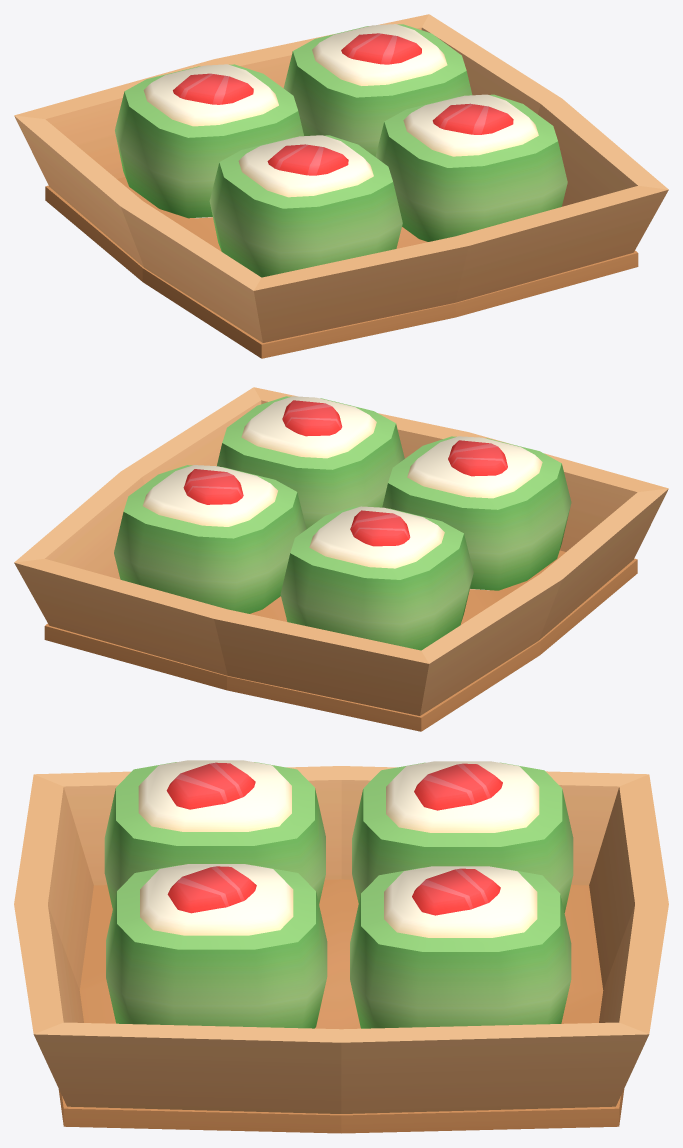
File: Set_1_035.gltf
3 views of the same model, one above another, from view 1: azimuth 30°, elevation 25°; view 2: azimuth 150°, elevation 25°; view 3: azimuth 270°, elevation 25° (orthographic). The views are drawn at different scales.
Parts seen in each view (by area): view 1: Box_Cardboard_Small_002.001, Sushi_Small_Cucumber_005.001, Sushi_Small_Cucumber_005.004, Sushi_Small_Cucumber_005.002, Sushi_Small_Cucumber_005.003; view 2: Box_Cardboard_Small_002.001, Sushi_Small_Cucumber_005.002, Sushi_Small_Cucumber_005.003, Sushi_Small_Cucumber_005.001, Sushi_Small_Cucumber_005.004; view 3: Box_Cardboard_Small_002.001, Sushi_Small_Cucumber_005.004, Sushi_Small_Cucumber_005.003, Sushi_Small_Cucumber_005.002, Sushi_Small_Cucumber_005.001.
Part boxes in pixels (box(x1,y1,x2,y2)): Box_Cardboard_Small_002.001: box(14, 14, 668, 358); Sushi_Small_Cucumber_005.001: box(209, 135, 402, 277); Sushi_Small_Cucumber_005.004: box(375, 94, 567, 241); Sushi_Small_Cucumber_005.002: box(115, 64, 303, 218); Sushi_Small_Cucumber_005.003: box(283, 24, 472, 156); Box_Cardboard_Small_002.001: box(14, 387, 668, 731); Sushi_Small_Cucumber_005.002: box(280, 506, 473, 650); Sushi_Small_Cucumber_005.003: box(114, 465, 306, 613); Sushi_Small_Cucumber_005.001: box(382, 436, 571, 590); Sushi_Small_Cucumber_005.004: box(217, 396, 404, 528); Box_Cardboard_Small_002.001: box(14, 766, 668, 1133); Sushi_Small_Cucumber_005.004: box(106, 864, 327, 1028); Sushi_Small_Cucumber_005.003: box(350, 866, 571, 1028); Sushi_Small_Cucumber_005.002: box(352, 761, 573, 912); Sushi_Small_Cucumber_005.001: box(104, 760, 325, 909).
Bounding box in the file's own units: 2 × 0.5936 × 2.
Materials: 1 (1 with a texture image).
